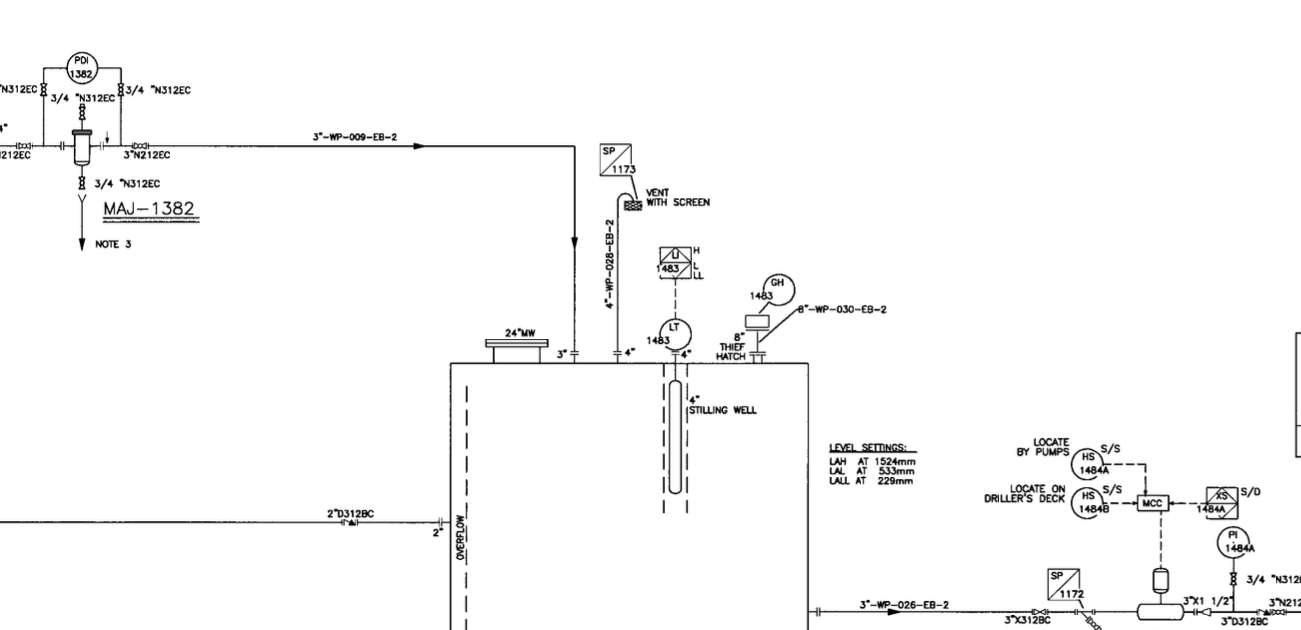Instrument-offset: (747, 266, 797, 308), (645, 313, 693, 355), (1069, 485, 1119, 522), (63, 45, 107, 87), (1066, 445, 1112, 483)
Instrument-square-offset: (1196, 481, 1242, 524)
